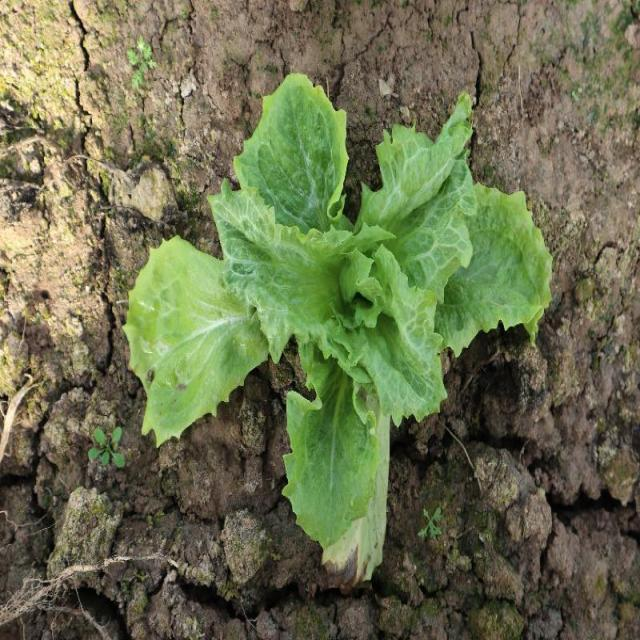crop: (121, 71, 555, 584)
